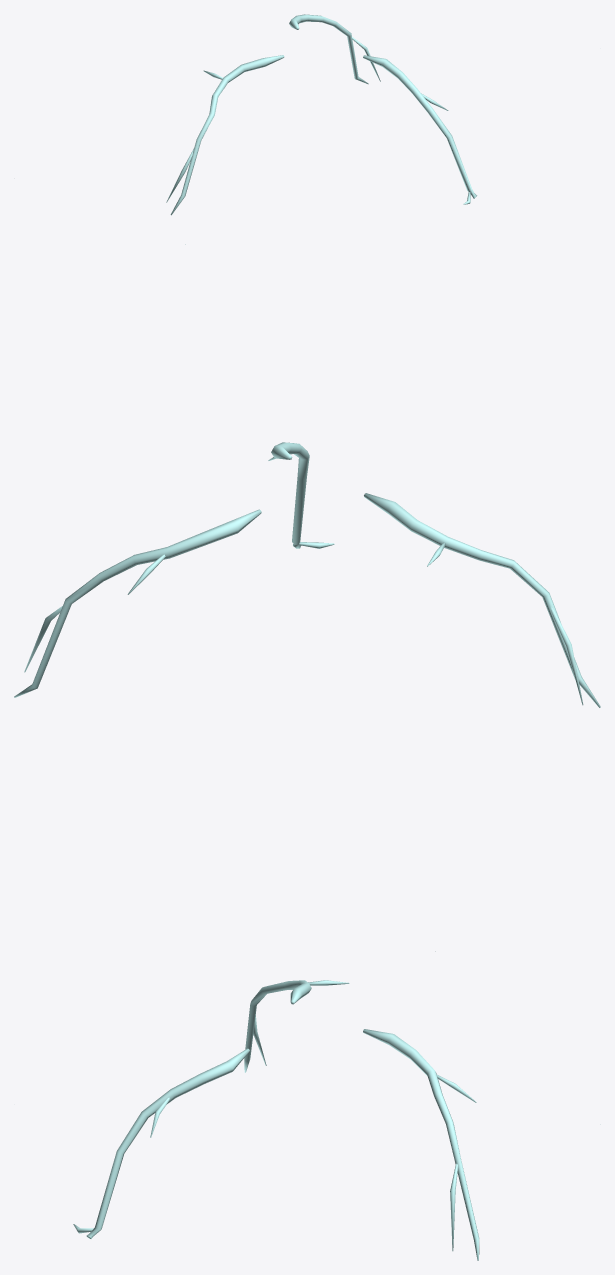
File: CreepCapGlow.glb
The picture shows the model from 3 angles, top to bottom: view 1: azimuth 30°, elevation 25°; view 2: azimuth 150°, elevation 25°; view 3: azimuth 270°, elevation 25°; orthographic projection. The views are drawn at different scales.
Visible parts, largest first — view 1: CreepCapGlow; view 2: CreepCapGlow; view 3: CreepCapGlow.
Part boxes in pixels (<box>): CreepCapGlow: <box>166,14,476,215</box>; CreepCapGlow: <box>14,244,600,951</box>; CreepCapGlow: <box>73,980,600,1260</box>.
Bounding box in the file's own units: 2.2 × 1.11 × 2.2.
